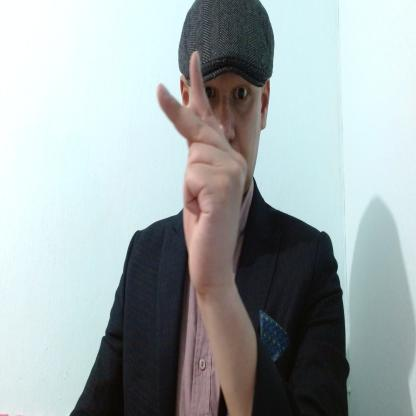P: (154, 46, 252, 302)
